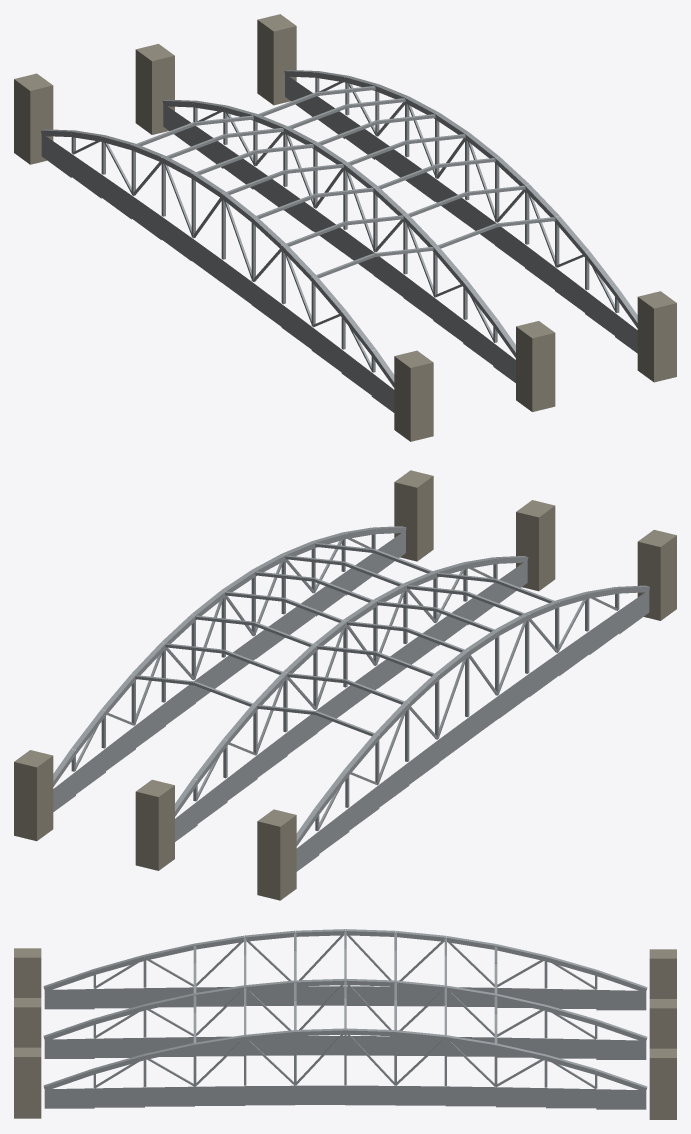
Rendered from anderson_bridge.glb.
3 renders of one model, top to bottom at view 1: azimuth 30°, elevation 25°; view 2: azimuth 150°, elevation 25°; view 3: azimuth 270°, elevation 25°, orthographic. The views are drawn at different scales.
Parts seen in each view (by area): view 1: chunk_0_0; view 2: chunk_0_0; view 3: chunk_0_0.
Boxes of the visible parts, x1,y1,x2,y2 form: chunk_0_0: (14, 14, 676, 441); chunk_0_0: (14, 470, 676, 900); chunk_0_0: (14, 929, 676, 1119).
Bounding box in the file's own units: 30.2 × 11.89 × 77.87.
